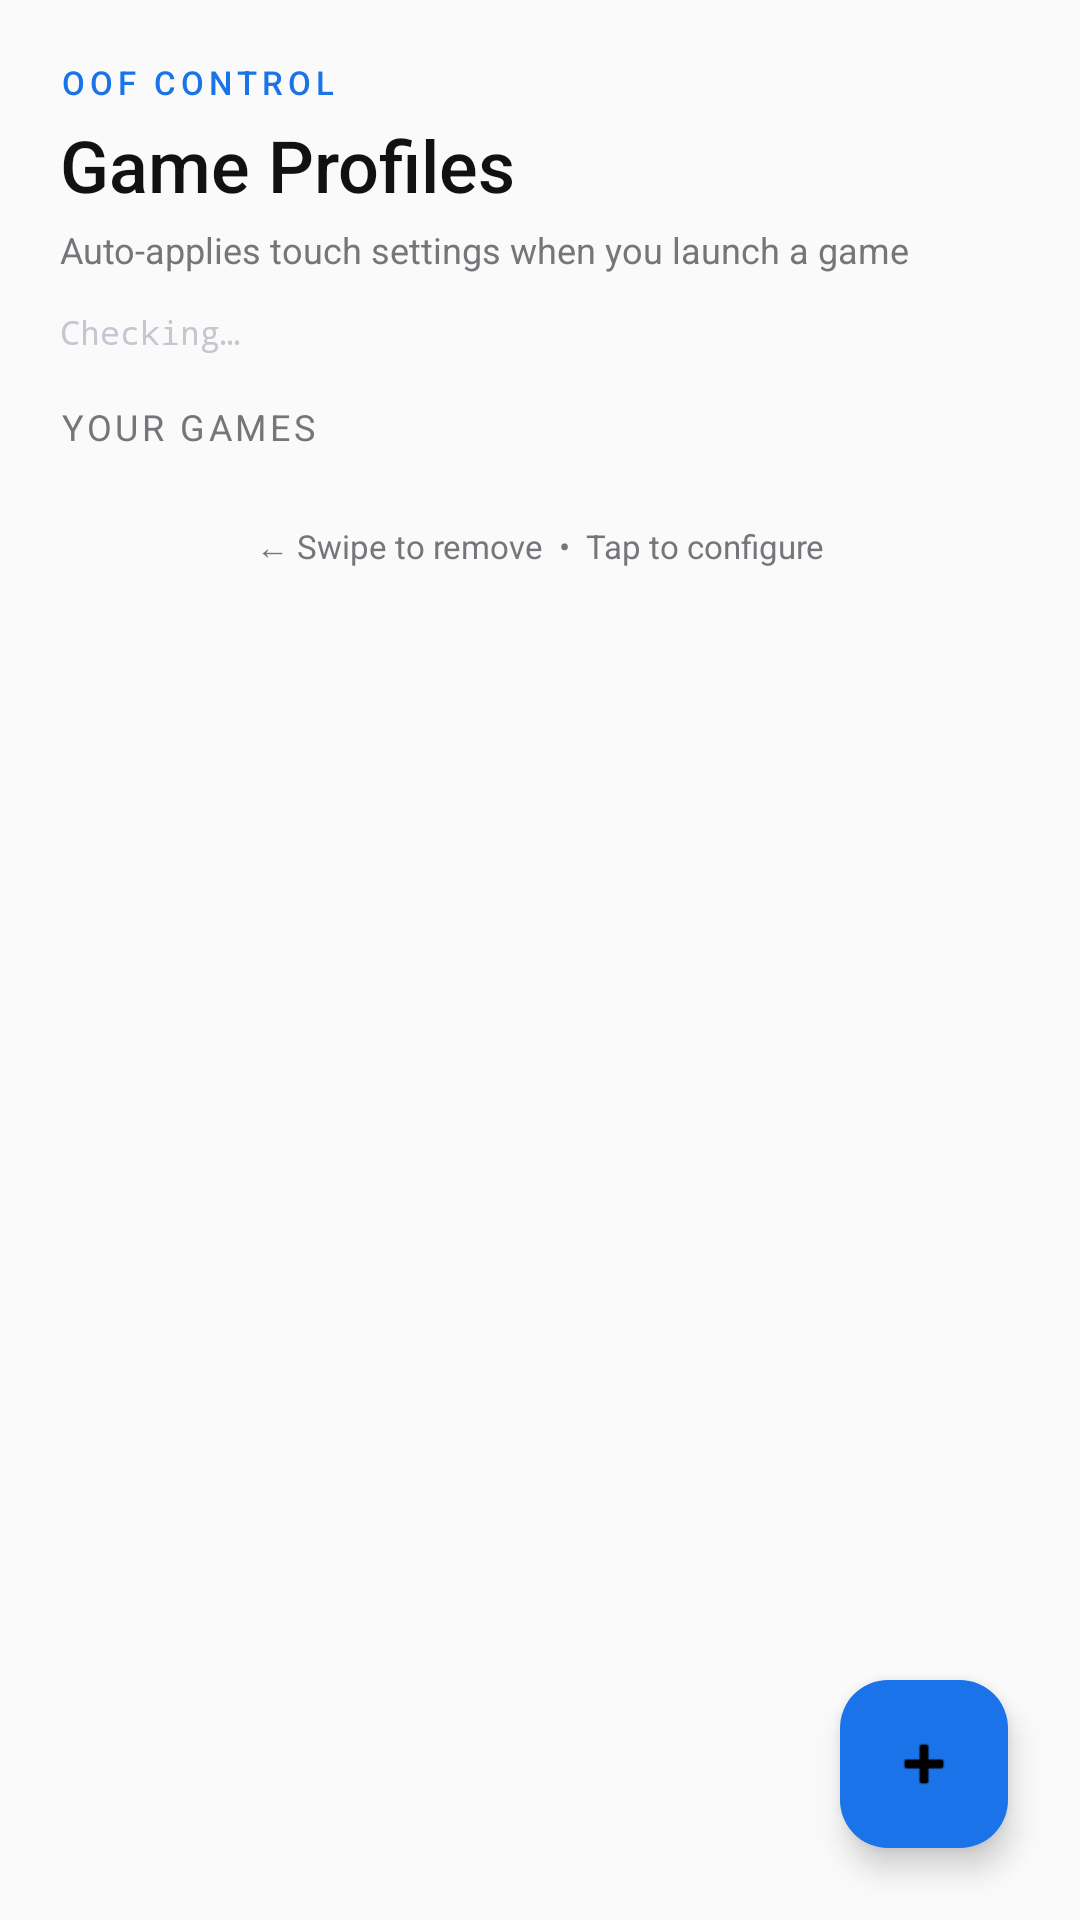

Icon click points for this 1080w x 1920h phone screenshot, format [x,y]:
Add game: [924,1764]
